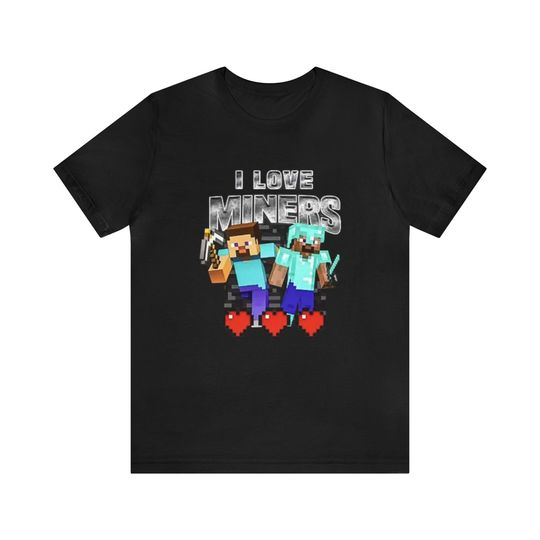design: (197, 166, 343, 340)
